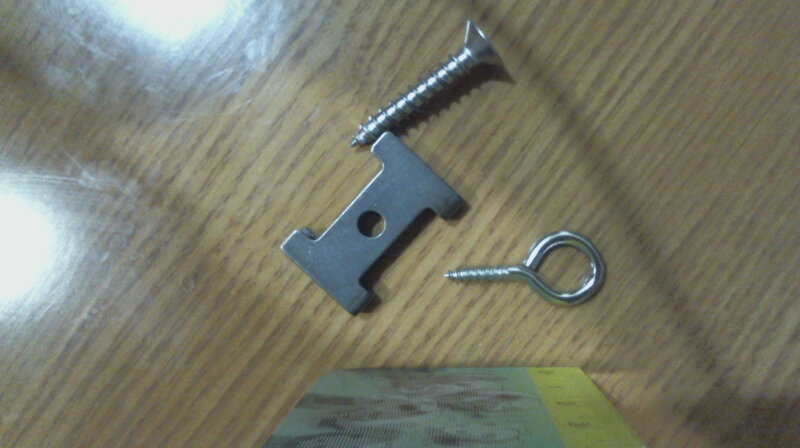O001: (441, 226, 609, 310)
O002: (276, 126, 471, 318)
S001: (346, 17, 509, 154)
